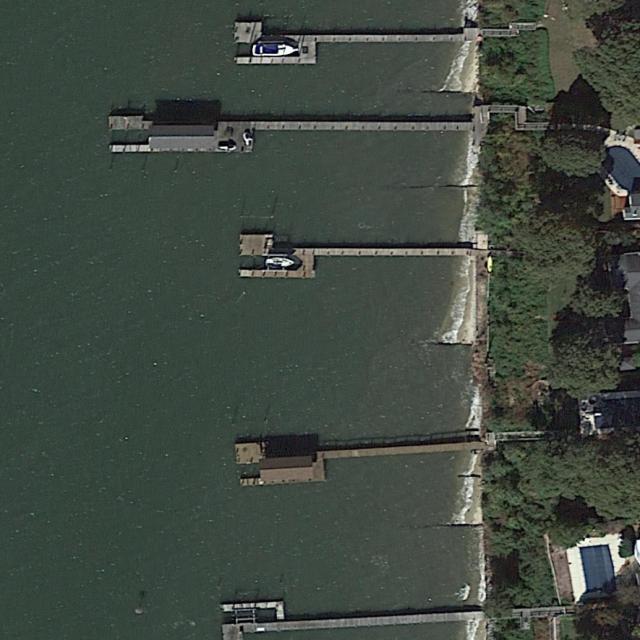ship: (252, 43, 299, 57), (265, 257, 298, 273)
